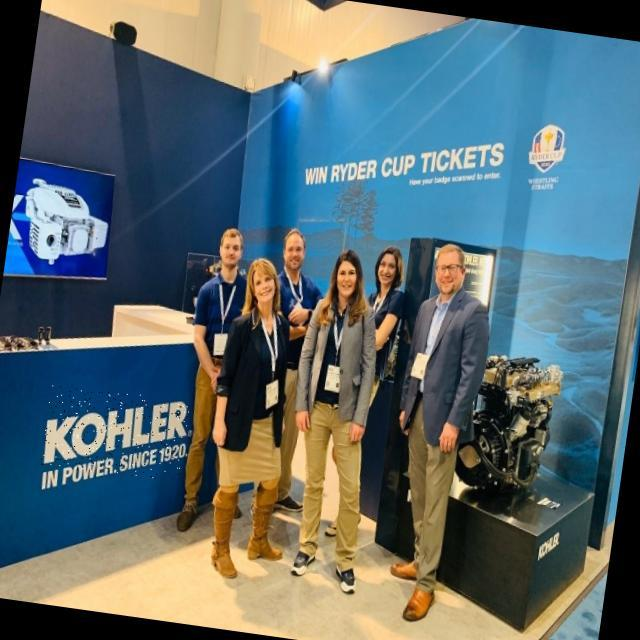Kohler: (41, 383, 191, 484)
